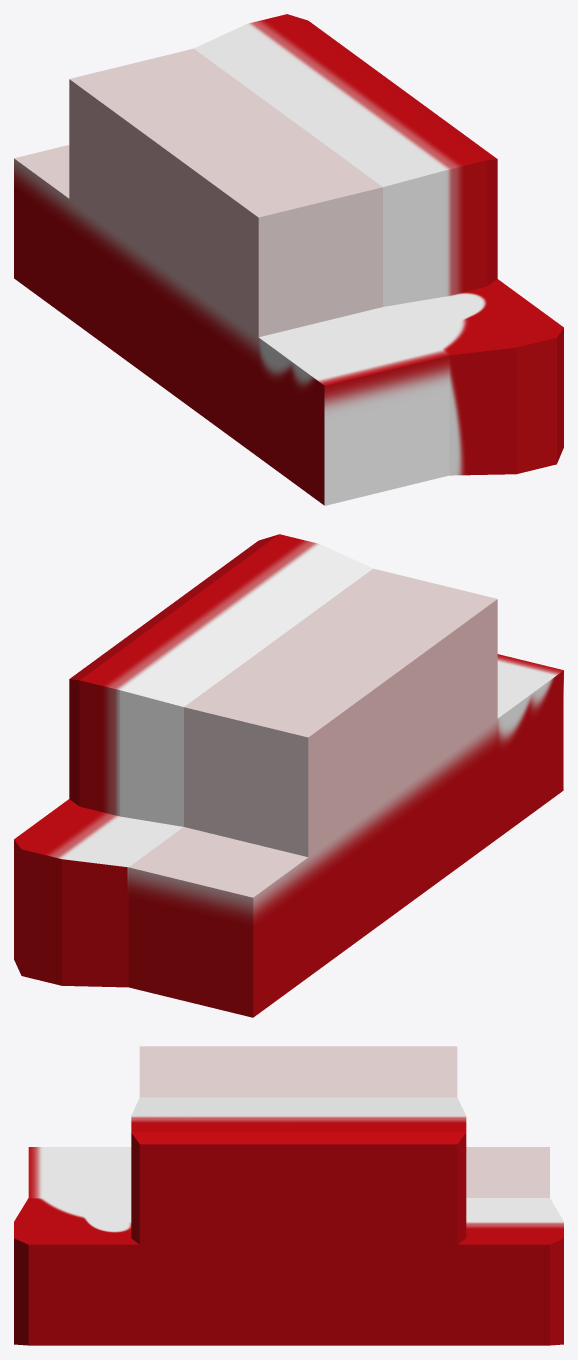
3 views of the same model, one above another, from view 1: azimuth 30°, elevation 25°; view 2: azimuth 150°, elevation 25°; view 3: azimuth 270°, elevation 25° (orthographic). The views are drawn at different scales.
Parts seen in each view (by area): view 1: Cube; view 2: Cube; view 3: Cube.
Boxes of the visible parts, x1,y1,x2,y2 form: Cube: [14, 14, 563, 505]; Cube: [14, 534, 563, 1017]; Cube: [14, 1046, 563, 1345].
Bounding box in the file's own units: 4.17 × 4.21 × 9.9.
1 material, 1 textured.
